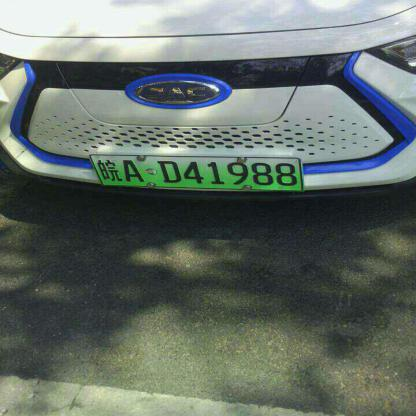lp: (89, 155, 303, 191)
